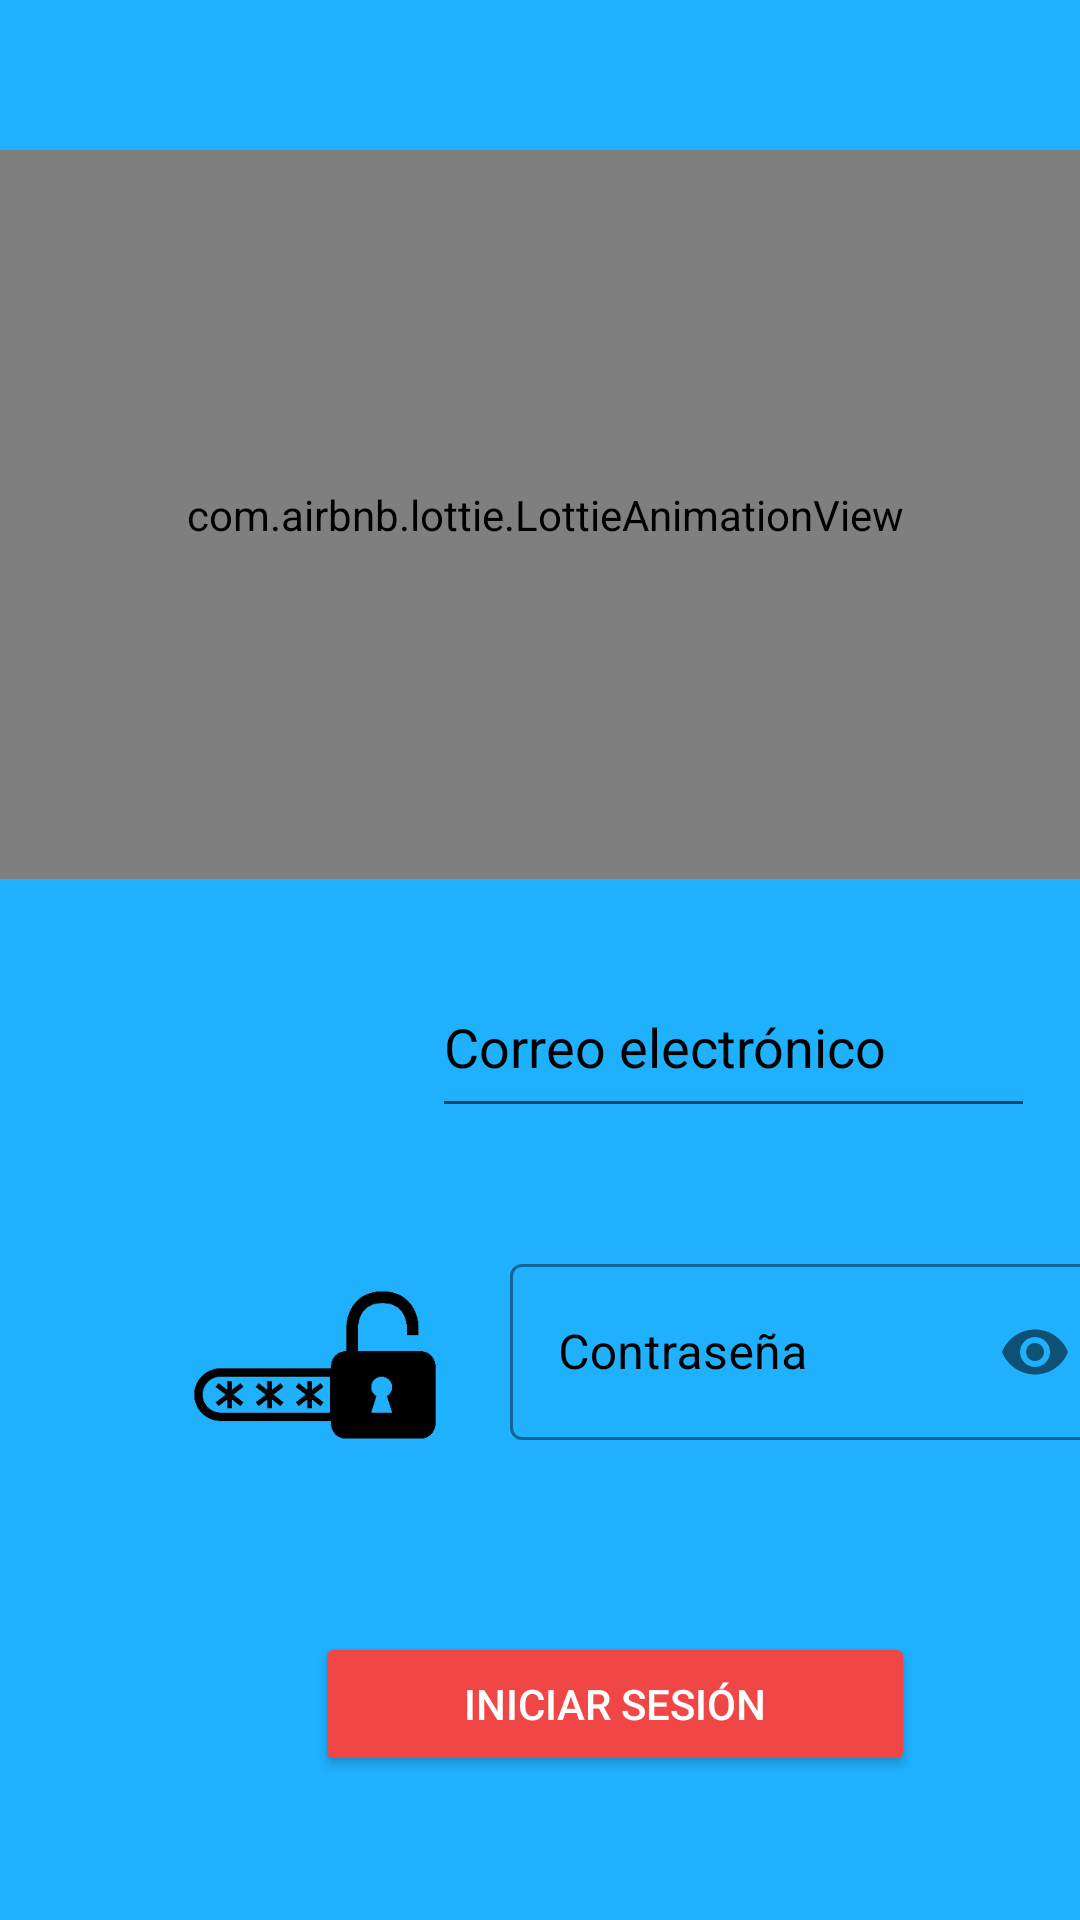

Icons on this 1080x1920 Android screen, each with its box as (x1, y1, x2, y2):
password: (194, 1291, 436, 1439)
